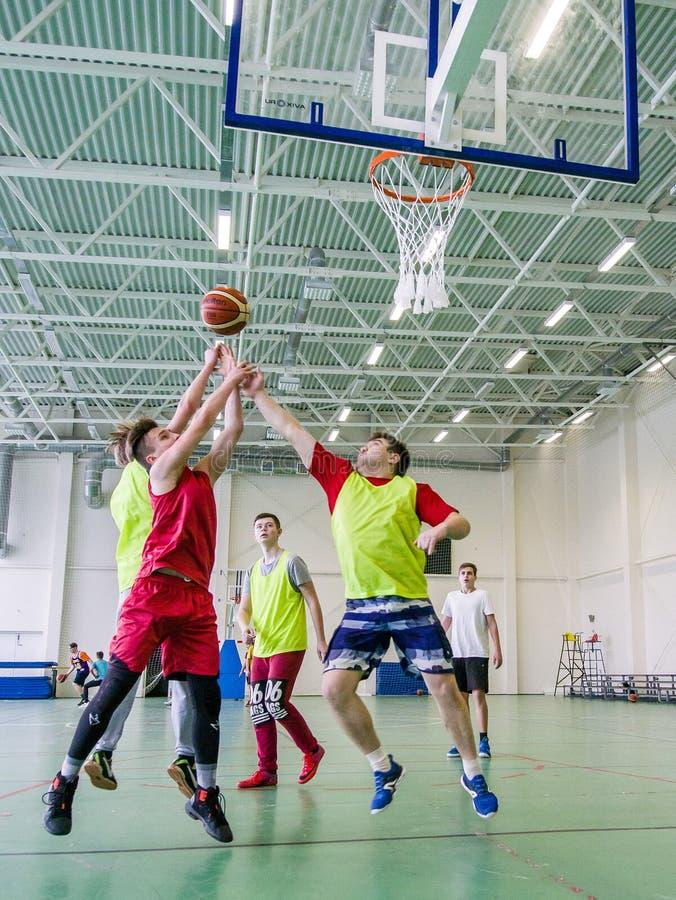basketball: (200, 286, 259, 343)
